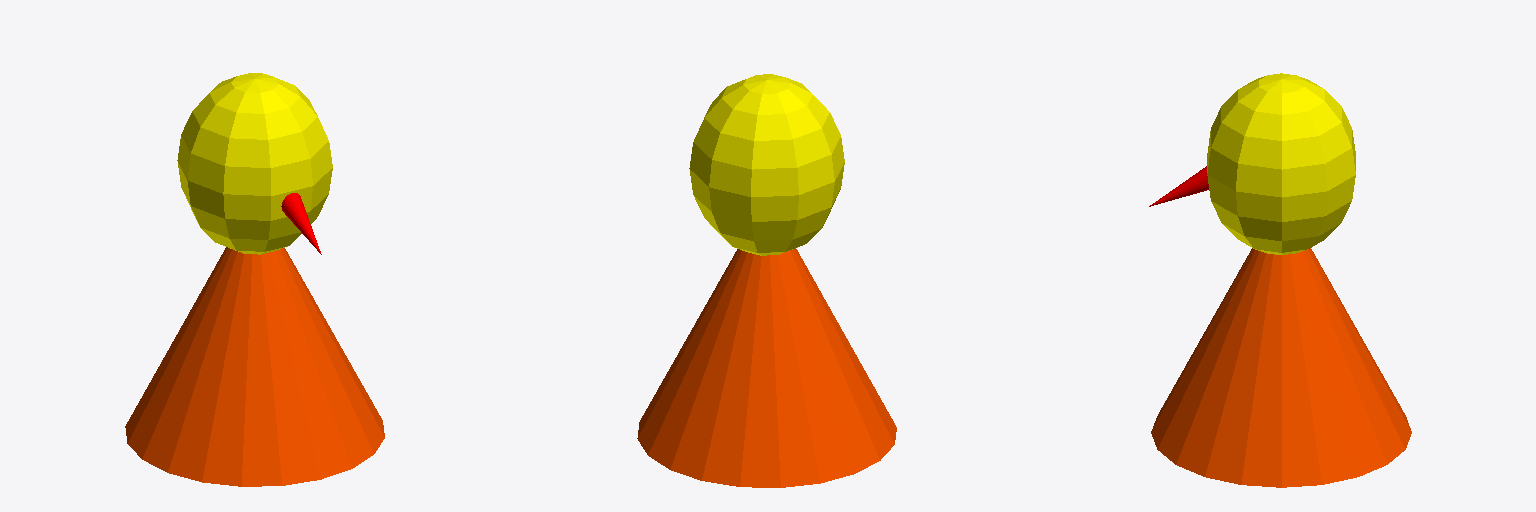
File: test_player.obj
3 renders of one model, left to right at view 1: azimuth 30°, elevation 25°; view 2: azimuth 150°, elevation 25°; view 3: azimuth 270°, elevation 25°, orthographic.
Visible parts, largest first — view 1: pCone1, pSphere1, pCone2; view 2: pCone1, pSphere1; view 3: pCone1, pSphere1, pCone2.
Part boxes in pixels (x1,y1,x2,y2): pCone1: (125,247,384,486); pSphere1: (177,73,332,254); pCone2: (281,193,321,254); pCone1: (637,248,896,487); pSphere1: (689,74,844,255); pCone1: (1151,248,1411,487); pSphere1: (1207,73,1355,254); pCone2: (1149,166,1208,206).
Size of the model in its own units: 2 by 2.99 by 2.02.